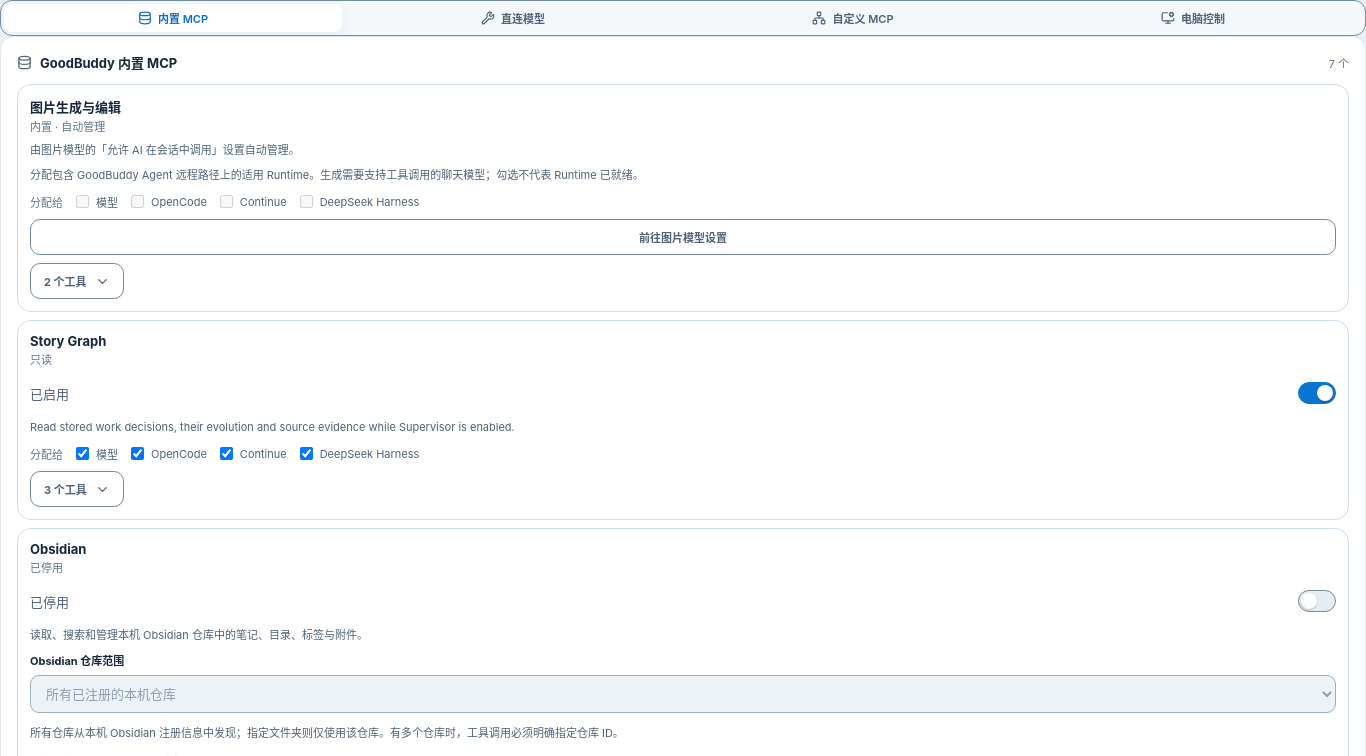
Test: removes the redundant MCP title and places the custom action in content
Click the tab "自定义 MCP" at [853, 18], box [684,4,1022,32]
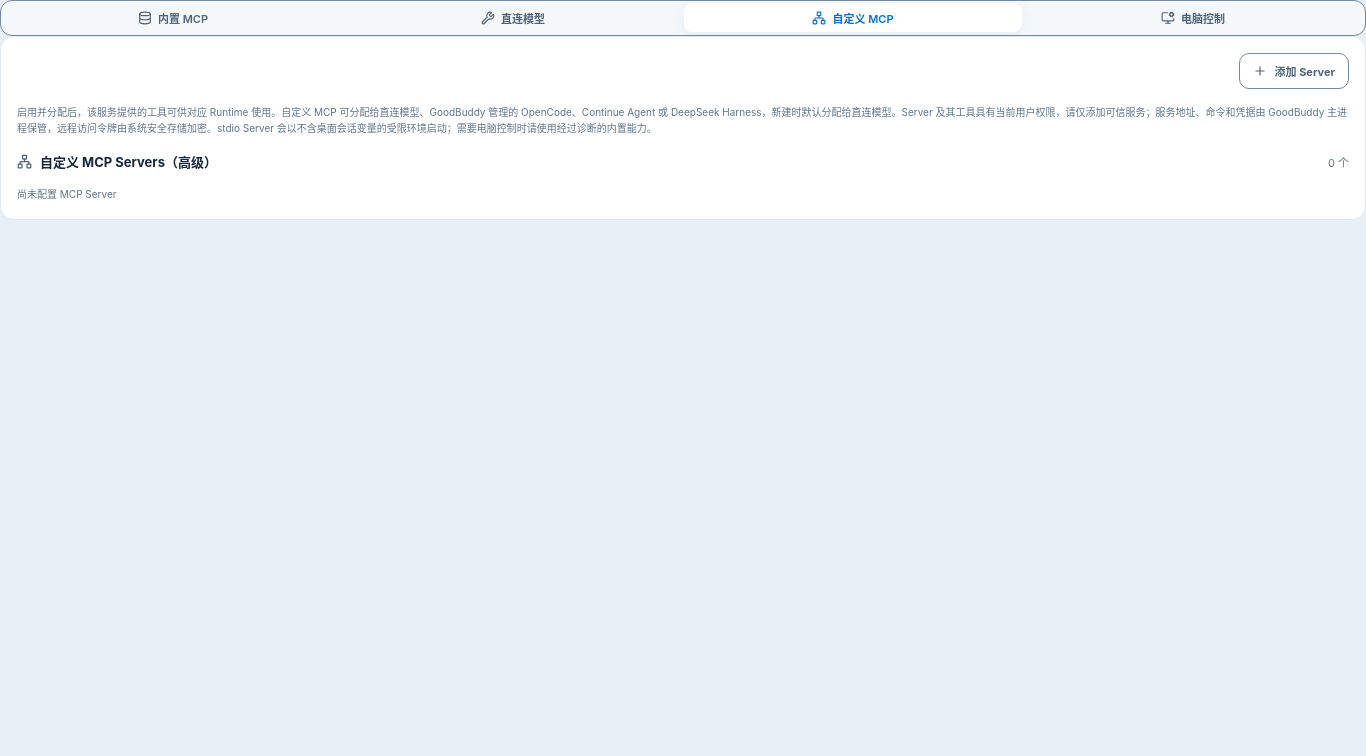
Check: the text "启用并分配后，该服务提供的工具可供对应 Runtime 使用。自定义 MCP 可分配给直连模型、GoodBuddy 管理的 OpenCode、Continue Agent 或 DeepSeek Harness，新建时默认分配给直连模型。Se" is shown, box [17,106,1347,134]
Check: the button "添加 Server" is shown, box [1238,53,1349,89]
